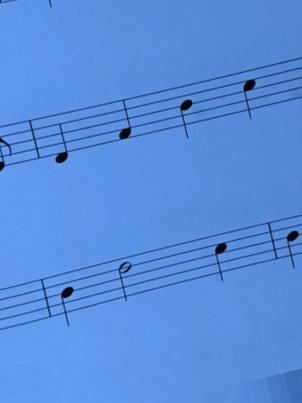B: (175, 80, 201, 143), (52, 273, 78, 330), (281, 215, 300, 277)
D: (50, 111, 74, 170)
F: (112, 95, 138, 147)
HC: (208, 232, 234, 289), (237, 72, 263, 123)
